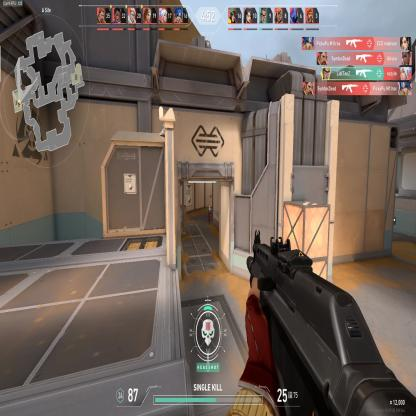enemy: (207, 204, 211, 225)
